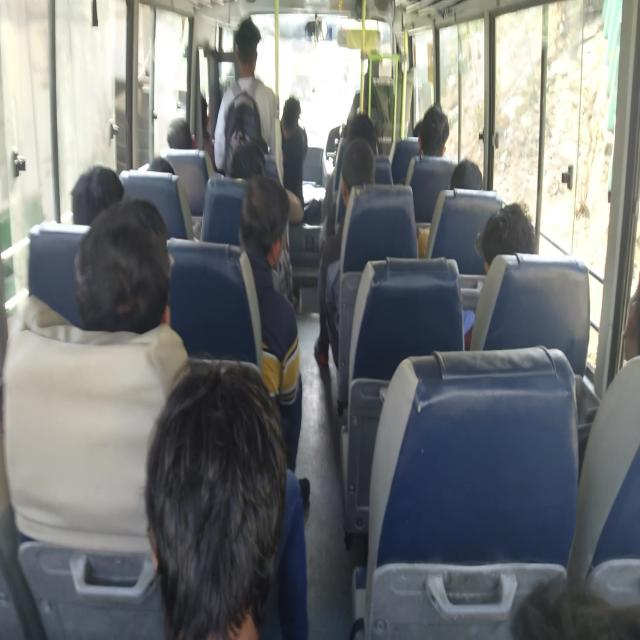person: (9, 201, 191, 562), (145, 355, 302, 639), (317, 137, 381, 368), (74, 198, 173, 336), (470, 202, 540, 352), (152, 142, 205, 243), (238, 175, 289, 260), (70, 165, 124, 228), (339, 136, 375, 203), (415, 103, 450, 160), (343, 110, 380, 162), (622, 274, 639, 364), (278, 95, 303, 146), (234, 16, 262, 59), (449, 158, 483, 190), (166, 117, 194, 150), (147, 157, 177, 176), (412, 120, 422, 135)
